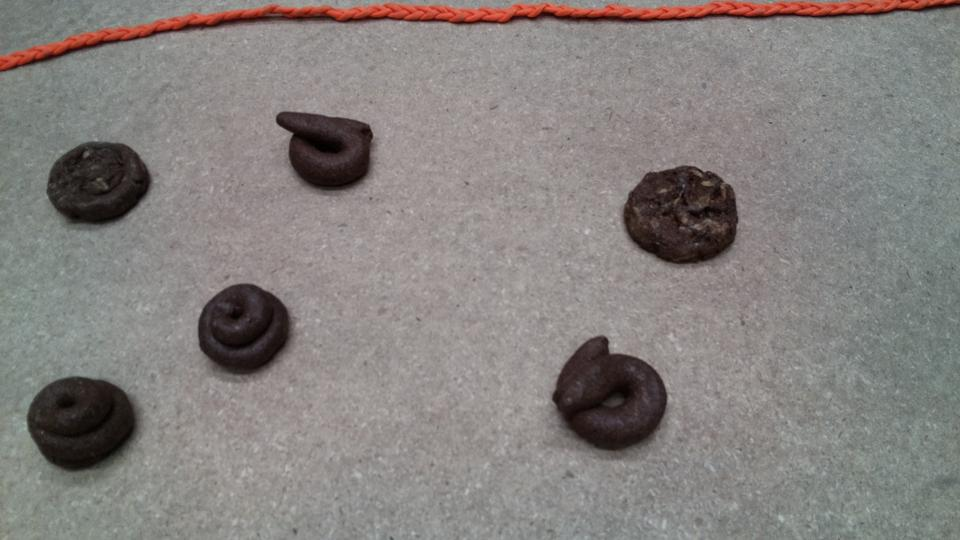poop: (550, 333, 670, 457), (620, 161, 742, 269), (25, 373, 140, 476), (193, 277, 294, 380), (44, 137, 156, 228), (274, 105, 378, 194)
rope: (1, 1, 960, 75)
